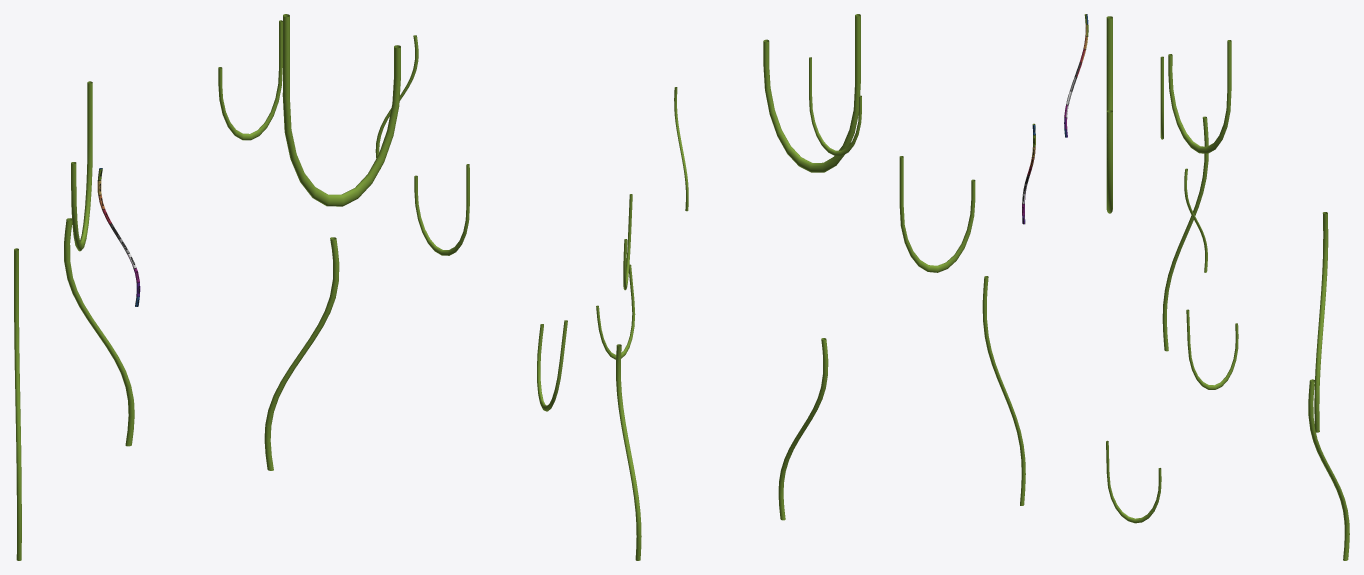
File: ArenaCables.fbx
The picture shows the model from 3 angles, left to right: view 1: azimuth 30°, elevation 25°; view 2: azimuth 150°, elevation 25°; view 3: azimuth 270°, elevation 25°; orthographic projection. The views are drawn at different scales.
Visible parts, largest first — view 1: Cables1; view 2: Cables1; view 3: Cables1.
Part boxes in pixels (box(x1,y1,x2,y2)): Cables1: box(14, 14, 567, 560); Cables1: box(596, 14, 1035, 560); Cables1: box(1064, 14, 1349, 560).
Bounding box in the file's own units: 267 × 287 × 151.
Materials: 1 (1 with a texture image).
